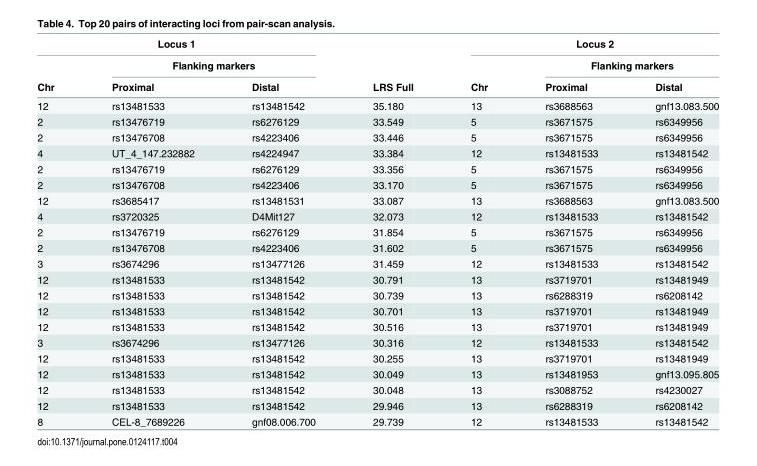table: (36, 37, 718, 426)
table column: (82, 37, 222, 426), (222, 37, 343, 426), (515, 37, 625, 426), (343, 37, 441, 426), (625, 37, 718, 426), (441, 37, 515, 426), (36, 37, 82, 426)
table column header: (36, 37, 718, 95)
table row: (36, 53, 718, 75), (36, 75, 718, 95), (36, 95, 718, 113), (36, 37, 718, 53), (36, 113, 718, 129), (36, 144, 718, 160), (36, 160, 718, 176), (36, 176, 718, 192), (36, 192, 718, 208), (36, 223, 718, 239), (36, 239, 718, 255), (36, 255, 718, 271), (36, 286, 718, 302), (36, 302, 718, 318), (36, 318, 718, 334), (36, 334, 718, 350), (36, 365, 718, 381), (36, 381, 718, 397), (36, 397, 718, 413), (36, 129, 718, 144), (36, 208, 718, 223), (36, 271, 718, 286), (36, 350, 718, 365), (36, 413, 718, 426)
table spanning cell: (82, 53, 343, 75), (343, 37, 441, 95), (36, 37, 343, 53), (515, 53, 718, 75), (441, 37, 718, 53), (441, 53, 515, 95), (36, 53, 82, 95)
